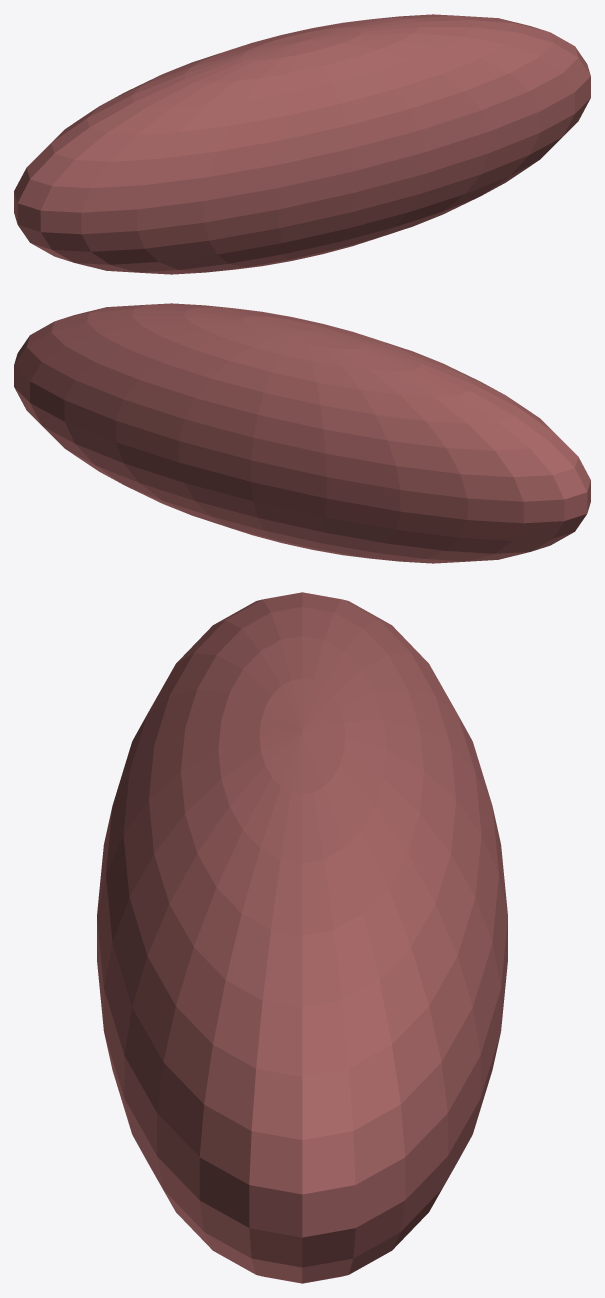
File: NailongMouth.glb
3 renders of one model, top to bottom at view 1: azimuth 30°, elevation 25°; view 2: azimuth 150°, elevation 25°; view 3: azimuth 270°, elevation 25°, orthographic. The views are drawn at different scales.
Parts seen in each view (by area): view 1: world; view 2: world; view 3: world.
Boxes of the visible parts, x1=… form: world: x1=14, y1=14, x2=590, y2=274; world: x1=14, y1=303, x2=590, y2=563; world: x1=97, y1=592, x2=507, y2=1283.
Bounding box in the file's own units: 0.2387 × 0.0825 × 0.0746.
